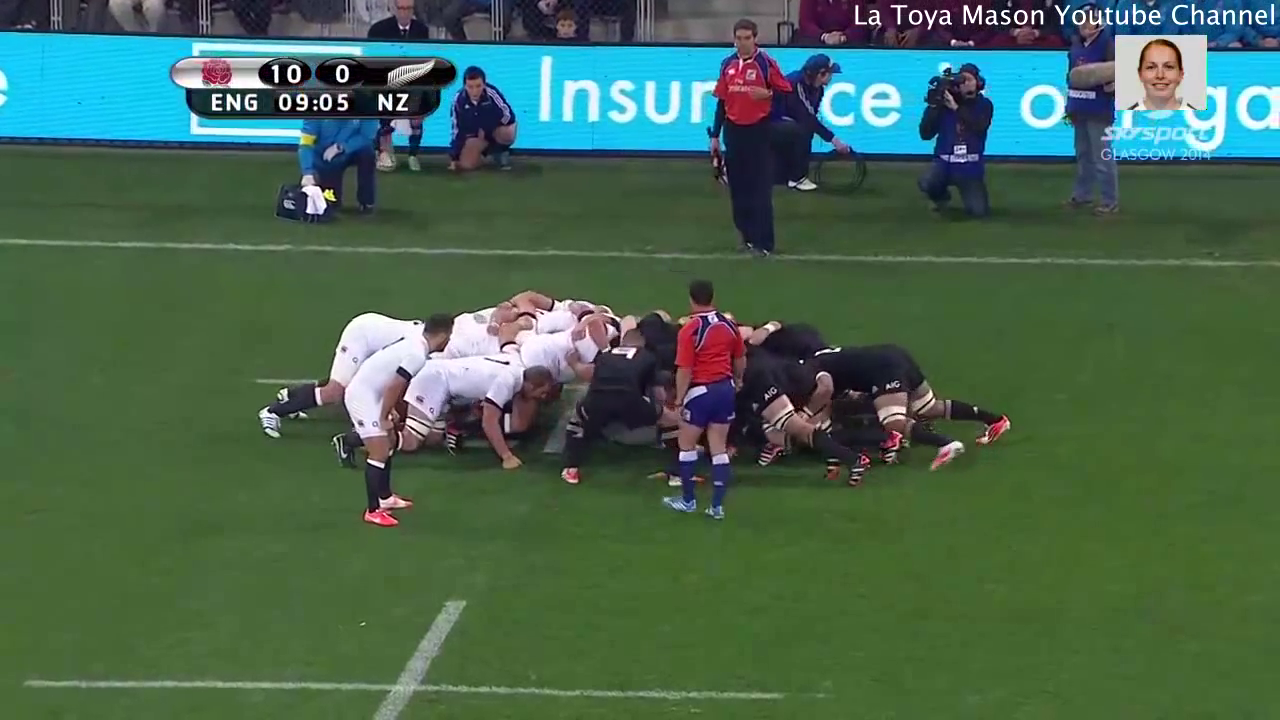player: (310, 333, 560, 470), (777, 340, 1019, 472), (242, 297, 433, 447), (340, 302, 458, 537), (545, 323, 683, 492), (657, 267, 742, 534), (732, 352, 876, 487)
scrum: (241, 281, 1035, 493)
